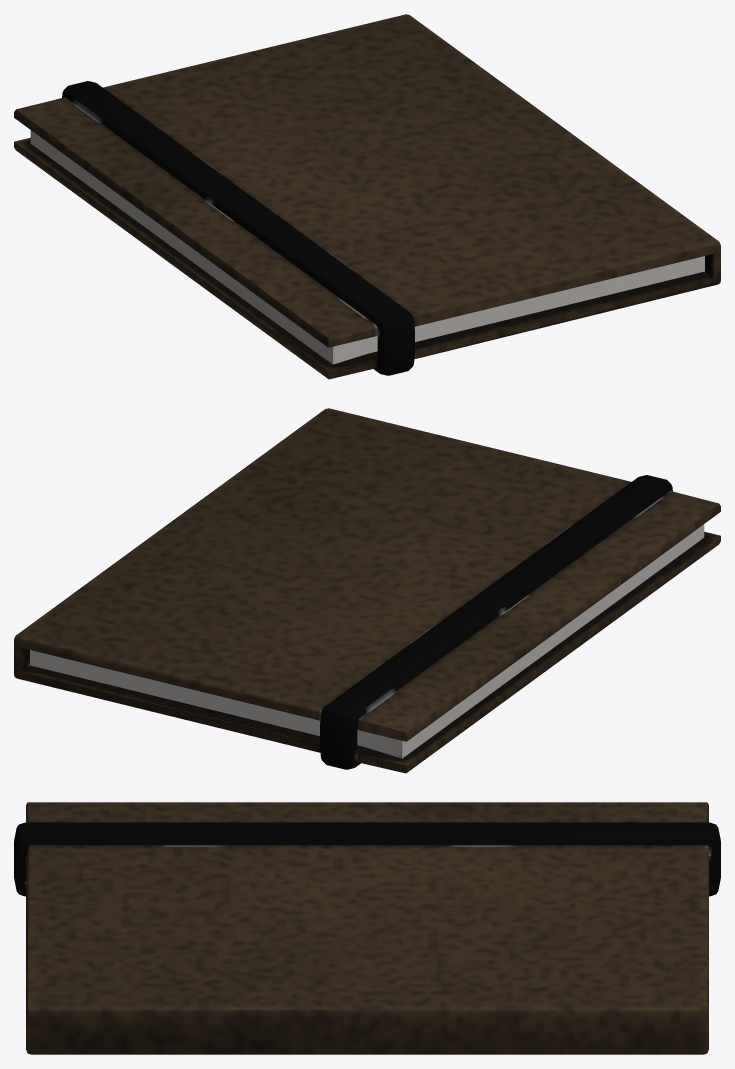
File: SM_NoteBook.fbx
3 renders of one model, top to bottom at view 1: azimuth 30°, elevation 25°; view 2: azimuth 150°, elevation 25°; view 3: azimuth 270°, elevation 25°, orthographic. The views are drawn at different scales.
Parts seen in each view (by area): view 1: SM_NoteBook; view 2: SM_NoteBook; view 3: SM_NoteBook.
Boxes of the visible parts, <box> form: SM_NoteBook: <box>14,14,720,379</box>; SM_NoteBook: <box>14,408,720,773</box>; SM_NoteBook: <box>14,802,720,1054</box>.
Bounding box in the file's own units: 15.95 × 2.23 × 22.8.
